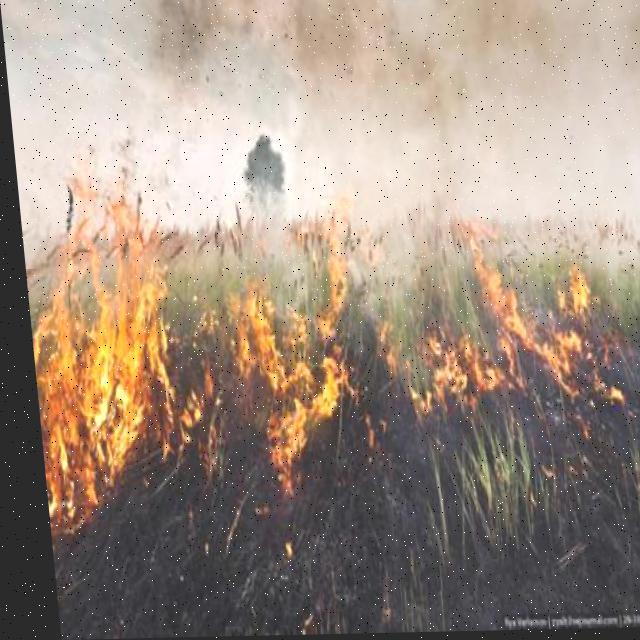Fire: (14, 152, 624, 528)
